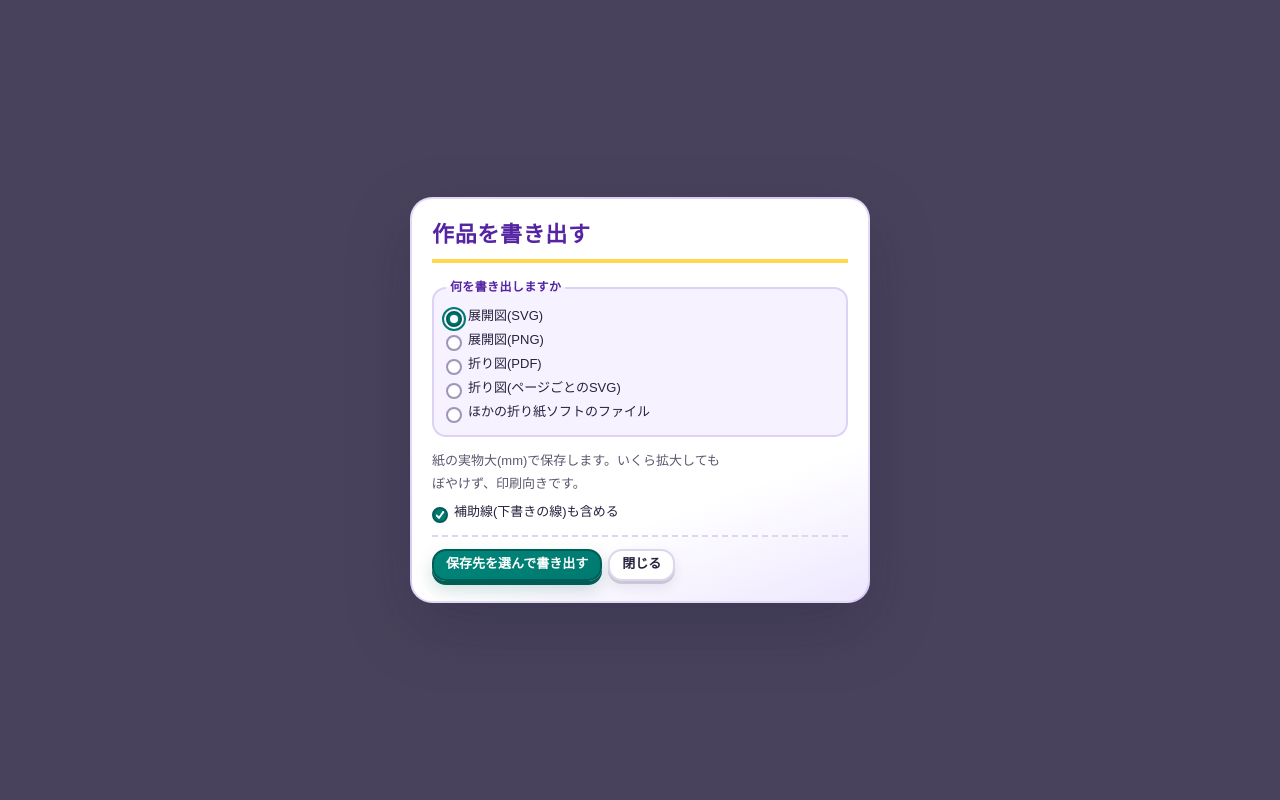
Test case: 書き出しダイアログ › PNGの大きさは上下ボタンで256点ずつ変わる
Step 1. Click the radio button labelled "展開図(PNG)" → (454, 342), box [446, 334, 462, 350]
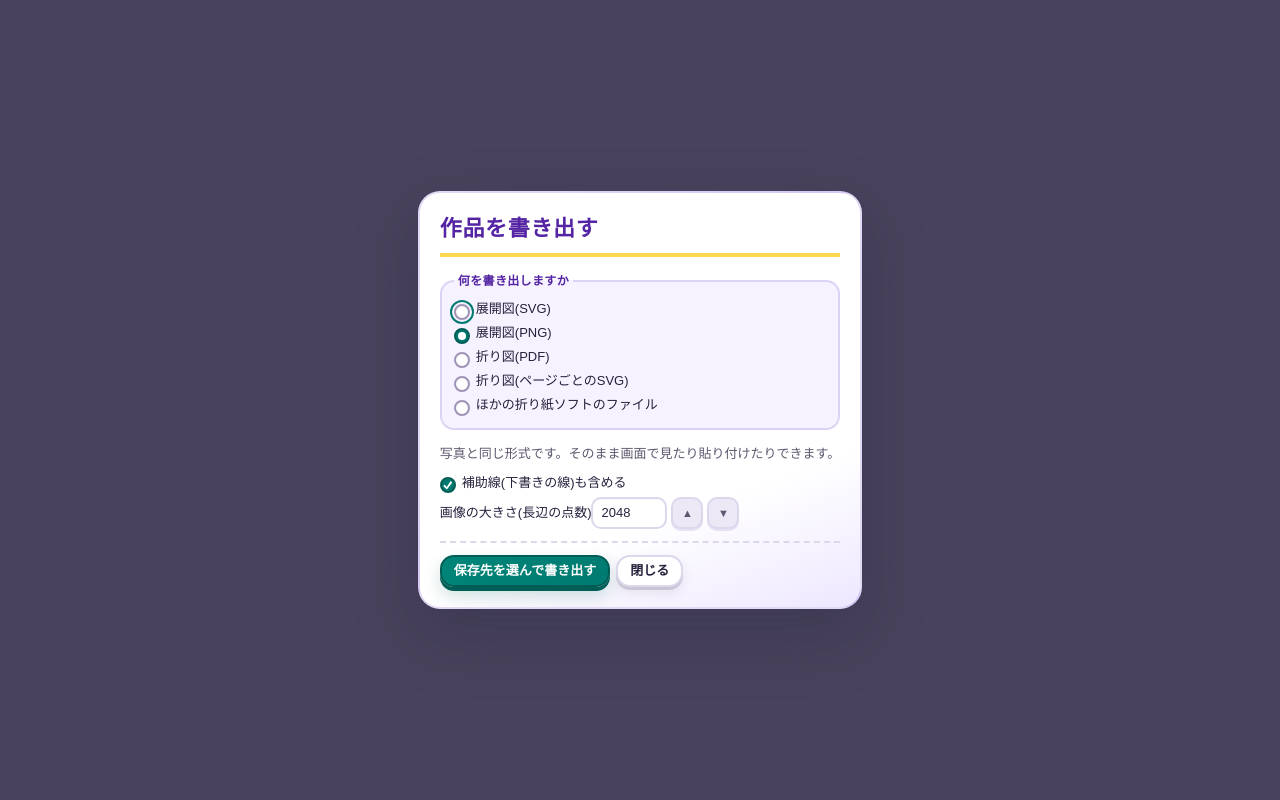
Step 2. Click the button named "画像の大きさ（長辺の点数）を増やす" → (688, 513), box [672, 497, 704, 529]
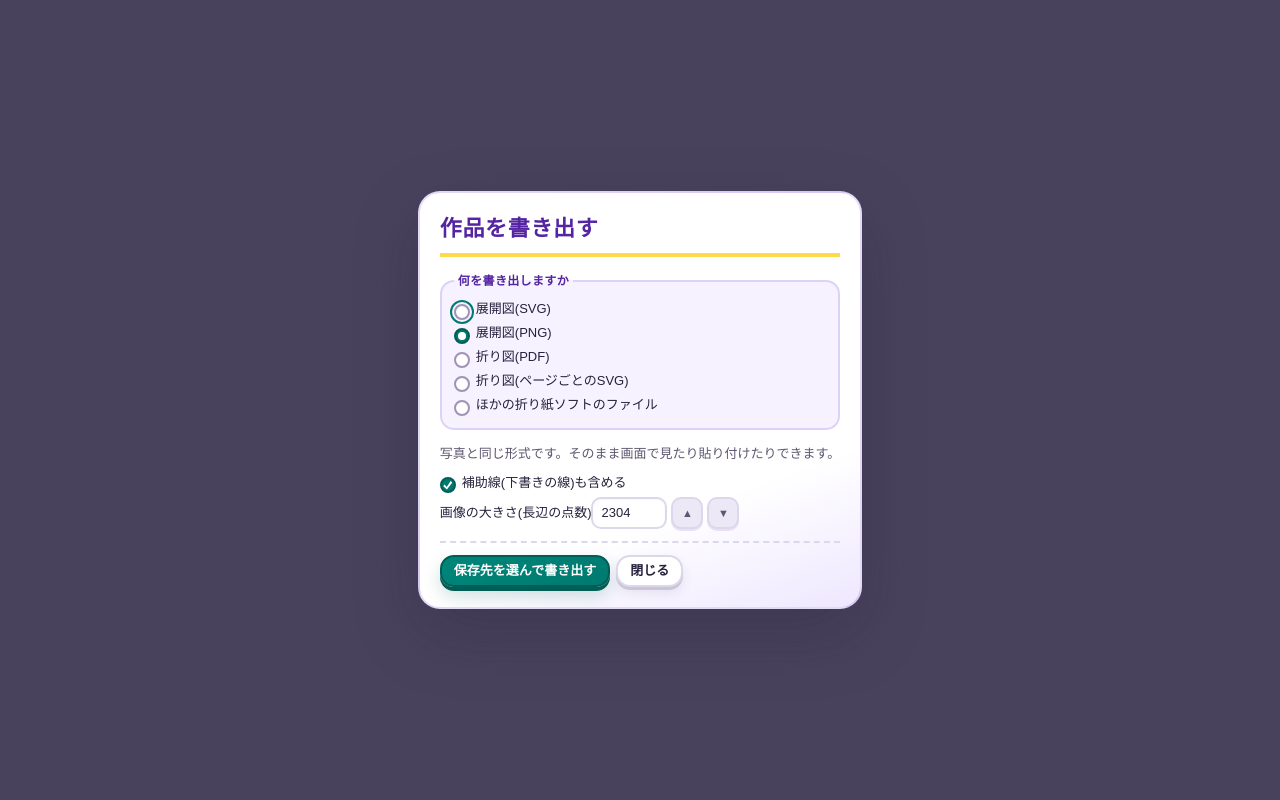
Expected: the number field named "画像の大きさ（長辺の点数）" holds "2304", [592, 497, 668, 529]
Step 3. Click the button named "画像の大きさ（長辺の点数）を減らす" → (724, 513), box [708, 497, 740, 529]
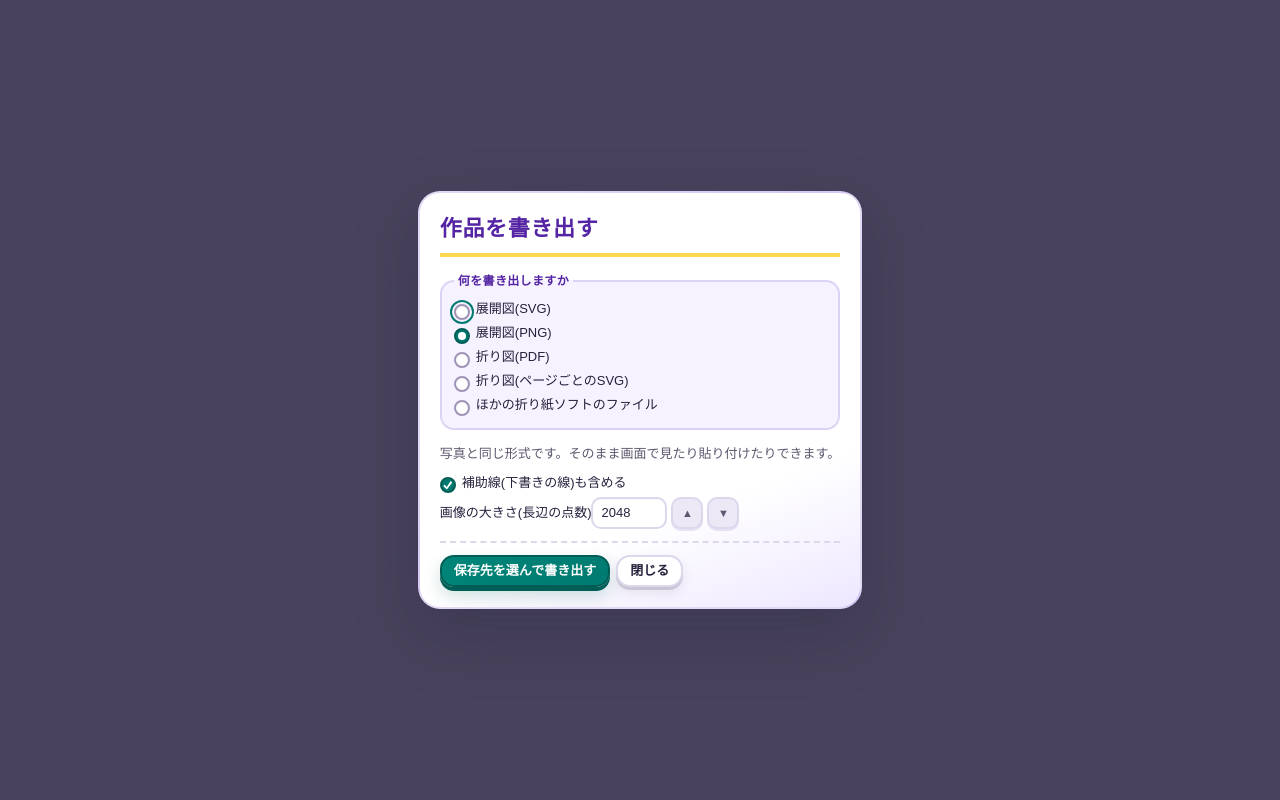
Expected: the number field named "画像の大きさ（長辺の点数）" holds "2048", [592, 497, 668, 529]
